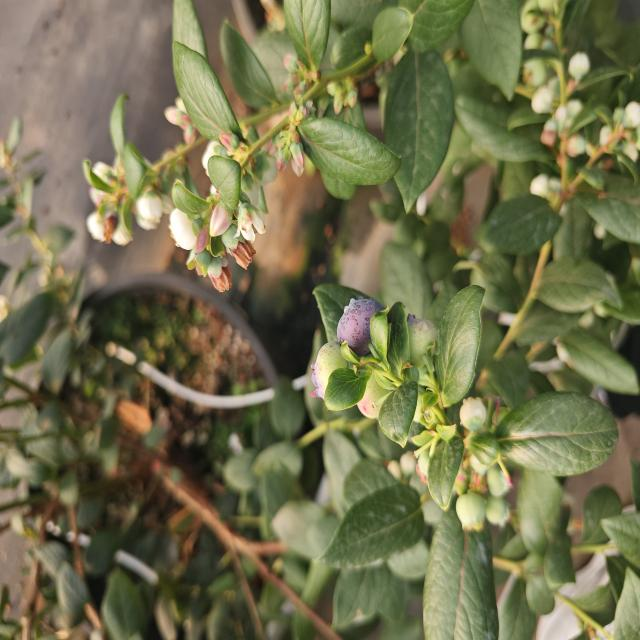ripe: (335, 294, 388, 355)
